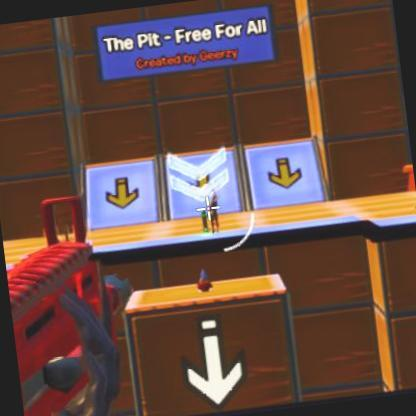person: (206, 192, 229, 237)
